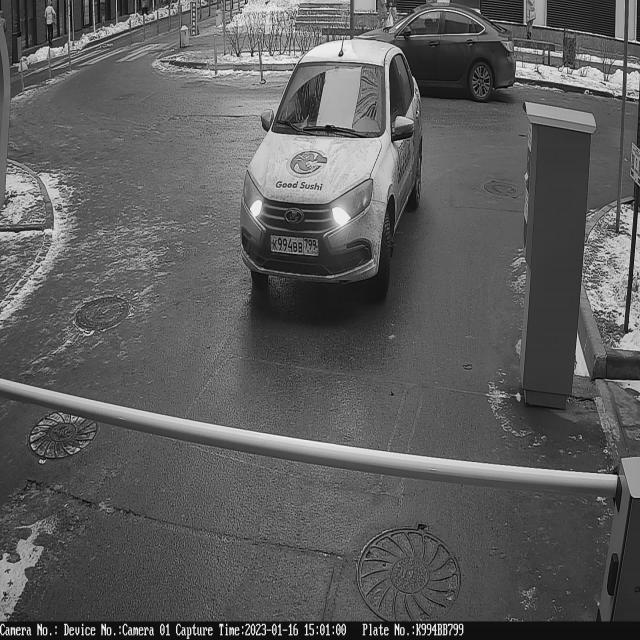car-plate-numbers: (269, 232, 321, 262)
